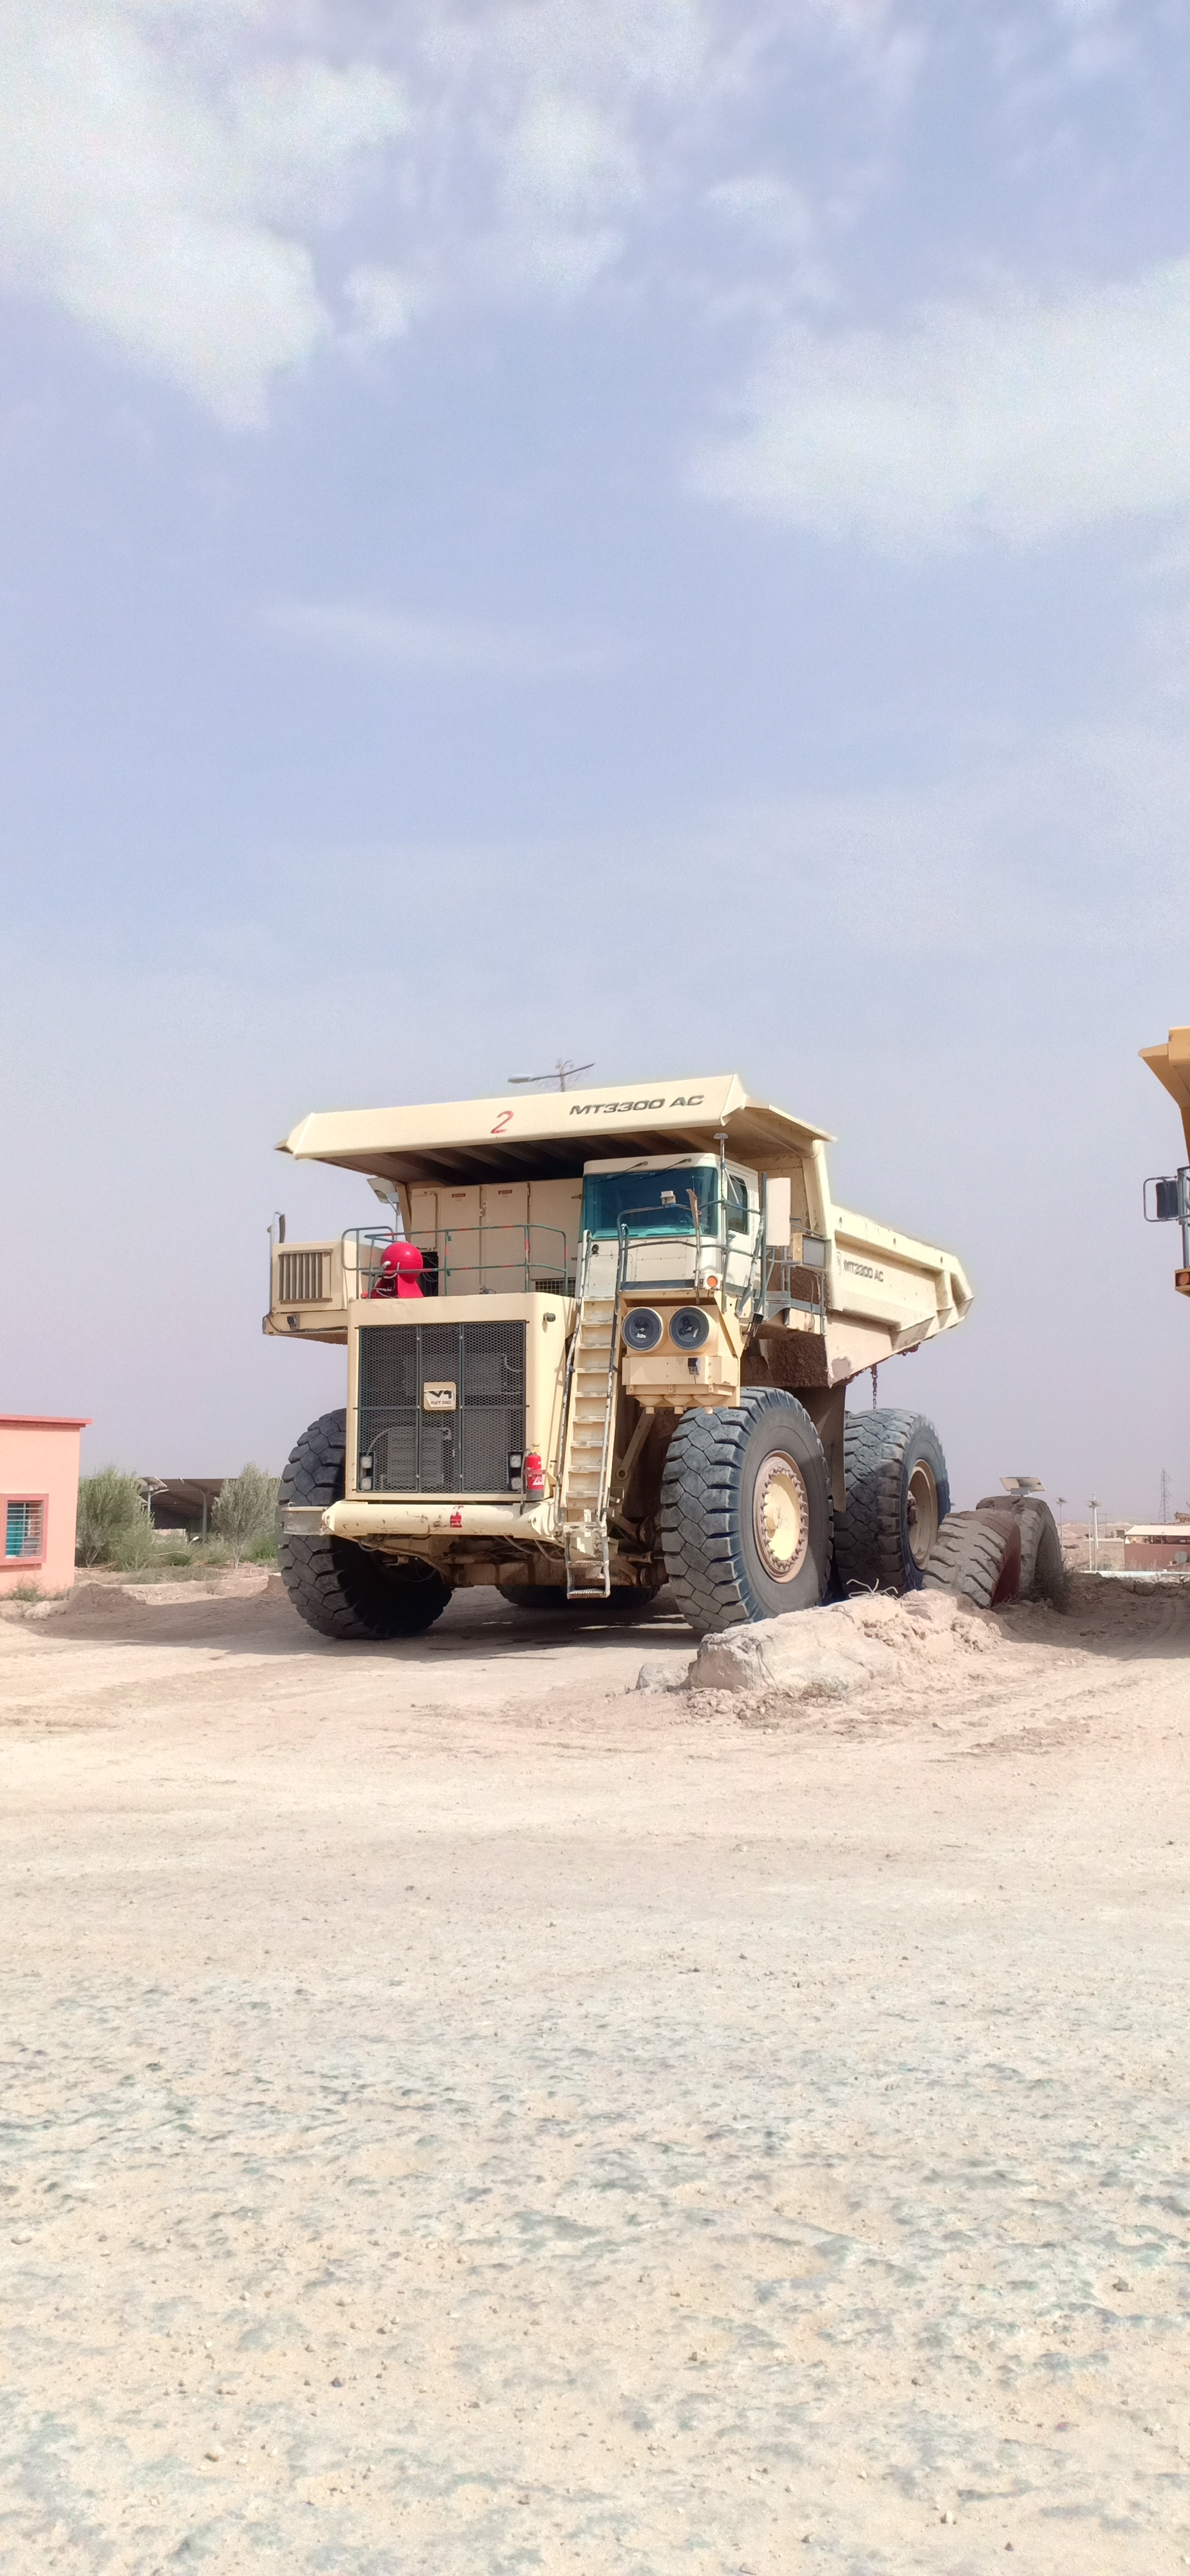camion: (230, 1068, 975, 1672)
